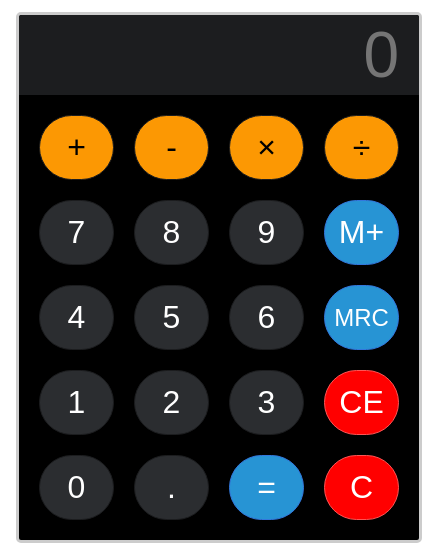
<Calculator /> › doesn't allow a divide by zero
Click the button "1" at point(76, 402), box [39,370,114,435]
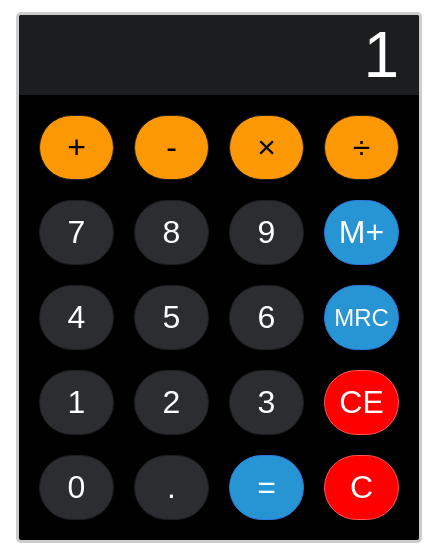
Click the button "÷" at point(362, 148), box [324,115,399,180]
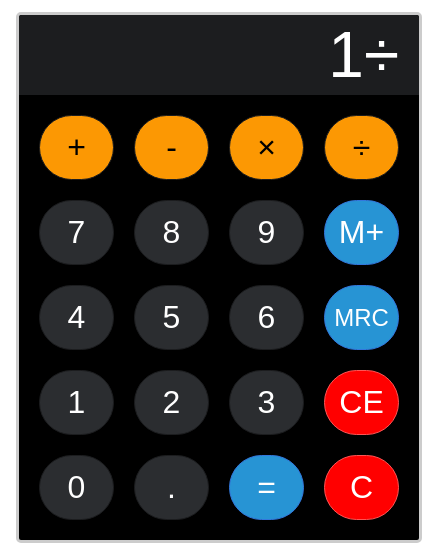
Click the button "0" at point(76, 488), box [39,455,114,520]
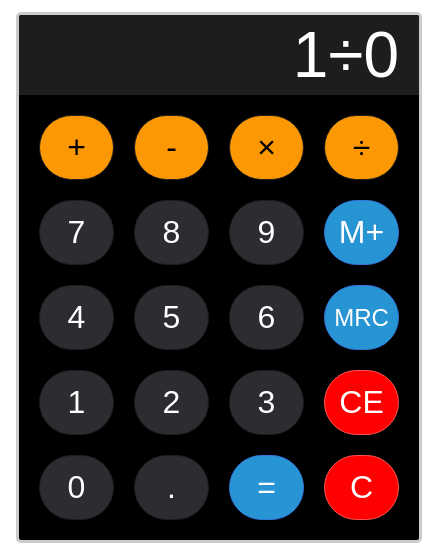
Click the button "=" at point(266, 488), box [229,455,304,520]
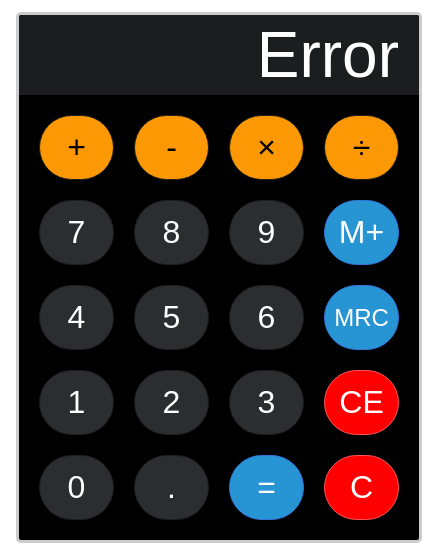
Now the field with placeholder "0" holds "Error", box [19,15,419,95]
